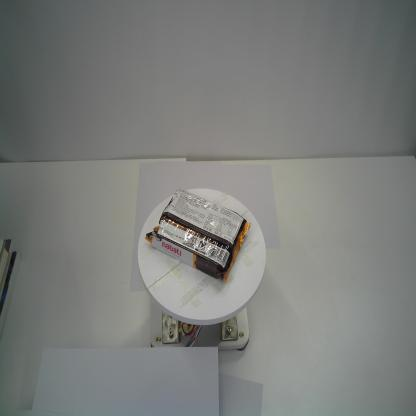Dessert: (141, 188, 250, 285)
